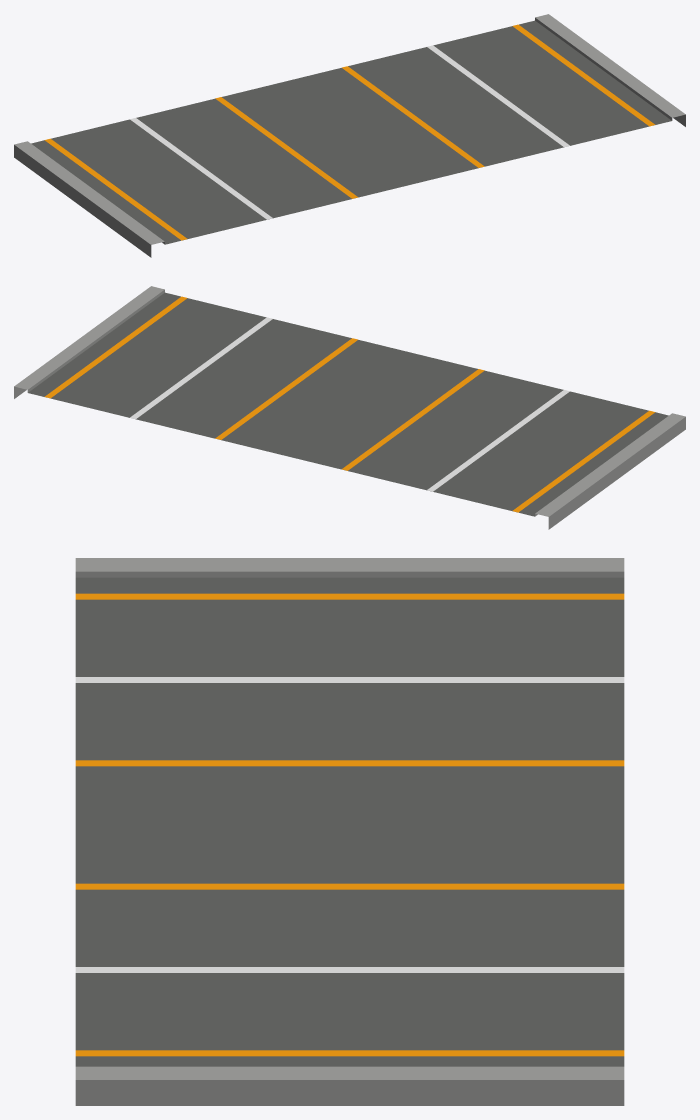
The model's file is Road_B_2L_1_2.fbx.
The picture shows the model from 3 angles, top to bottom: view 1: azimuth 30°, elevation 25°; view 2: azimuth 150°, elevation 25°; view 3: azimuth 270°, elevation 25°; orthographic projection. The views are drawn at different scales.
Visible parts, largest first — view 1: Road_B_2L_1_2; view 2: Road_B_2L_1_2; view 3: Road_B_2L_1_2.
Part boxes in pixels (x1,y1,x2,y2): Road_B_2L_1_2: (14, 14, 685, 257); Road_B_2L_1_2: (14, 286, 685, 529); Road_B_2L_1_2: (75, 558, 624, 1105).
Size of the model in its own units: 1800 by 41.48 by 800.
